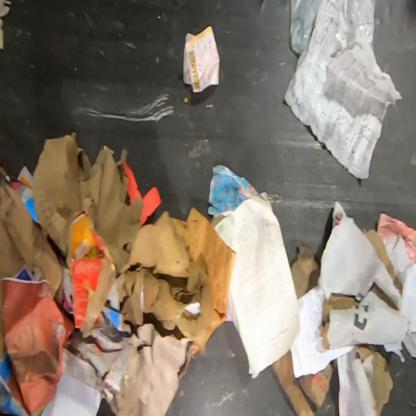cardboard: (31, 131, 237, 415), (314, 228, 410, 353), (0, 164, 66, 300), (270, 346, 334, 416), (351, 346, 394, 415), (289, 243, 320, 301)
soft_plastic: (289, 0, 377, 55)
